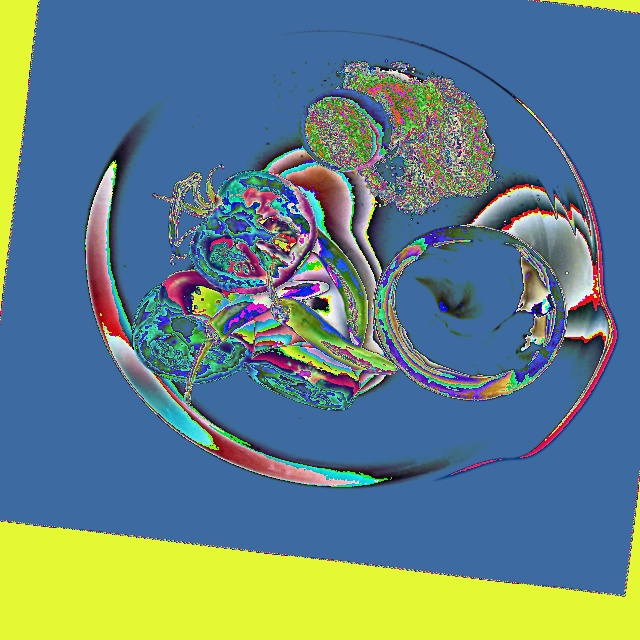background: (167, 143, 556, 379), (131, 165, 398, 411)
